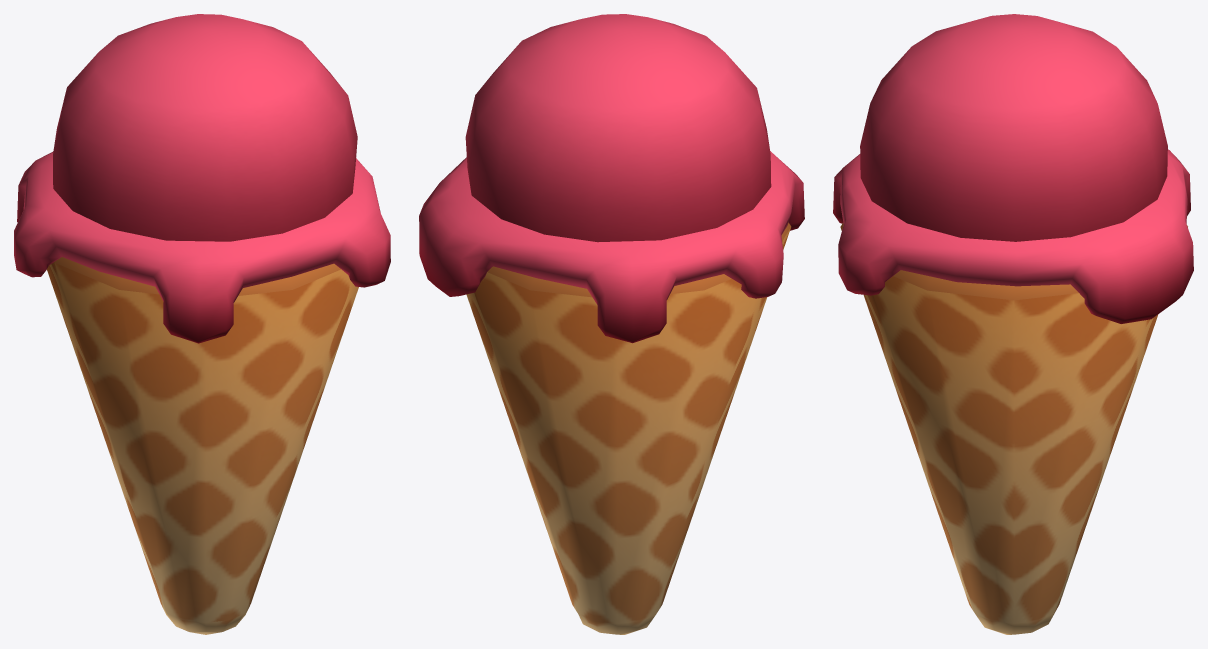
The model's file is m_IceCream07.fbx.
3 views of the same model, side by side, from view 1: azimuth 30°, elevation 25°; view 2: azimuth 150°, elevation 25°; view 3: azimuth 270°, elevation 25° (orthographic).
Visible parts, largest first — view 1: m_IceCream07; view 2: m_IceCream07; view 3: m_IceCream07.
Part boxes in pixels (left/top/right/bottom): m_IceCream07: left=14, top=14, right=390, bottom=634; m_IceCream07: left=419, top=14, right=804, bottom=634; m_IceCream07: left=833, top=14, right=1193, bottom=634.
Size of the model in its own units: 9.64 by 16.94 by 9.25.
